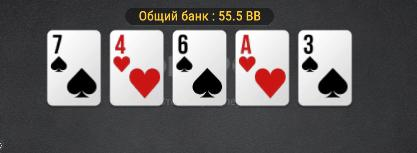3s: (298, 31, 351, 105)
4h: (111, 30, 163, 105)
6s: (173, 31, 226, 106)
7s: (48, 31, 101, 105)
Ah: (236, 31, 288, 105)
